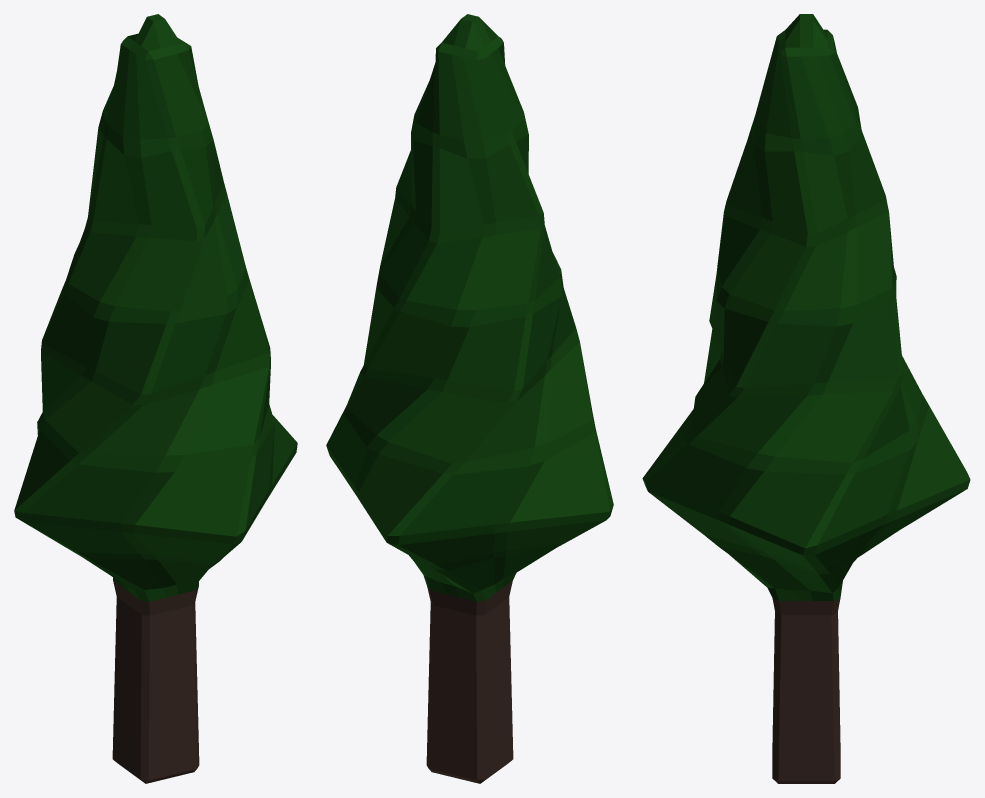
The model's file is Tree2.fbx.
3 renders of one model, left to right at view 1: azimuth 30°, elevation 25°; view 2: azimuth 150°, elevation 25°; view 3: azimuth 270°, elevation 25°, orthographic.
Visible parts, largest first — view 1: Cube; view 2: Cube; view 3: Cube.
Boxes of the visible parts, left/top/right/bottom form: Cube: left=14, top=14, right=297, bottom=783; Cube: left=326, top=14, right=613, bottom=783; Cube: left=642, top=14, right=970, bottom=783.
Bounding box in the file's own units: 410 × 1041 × 410.
